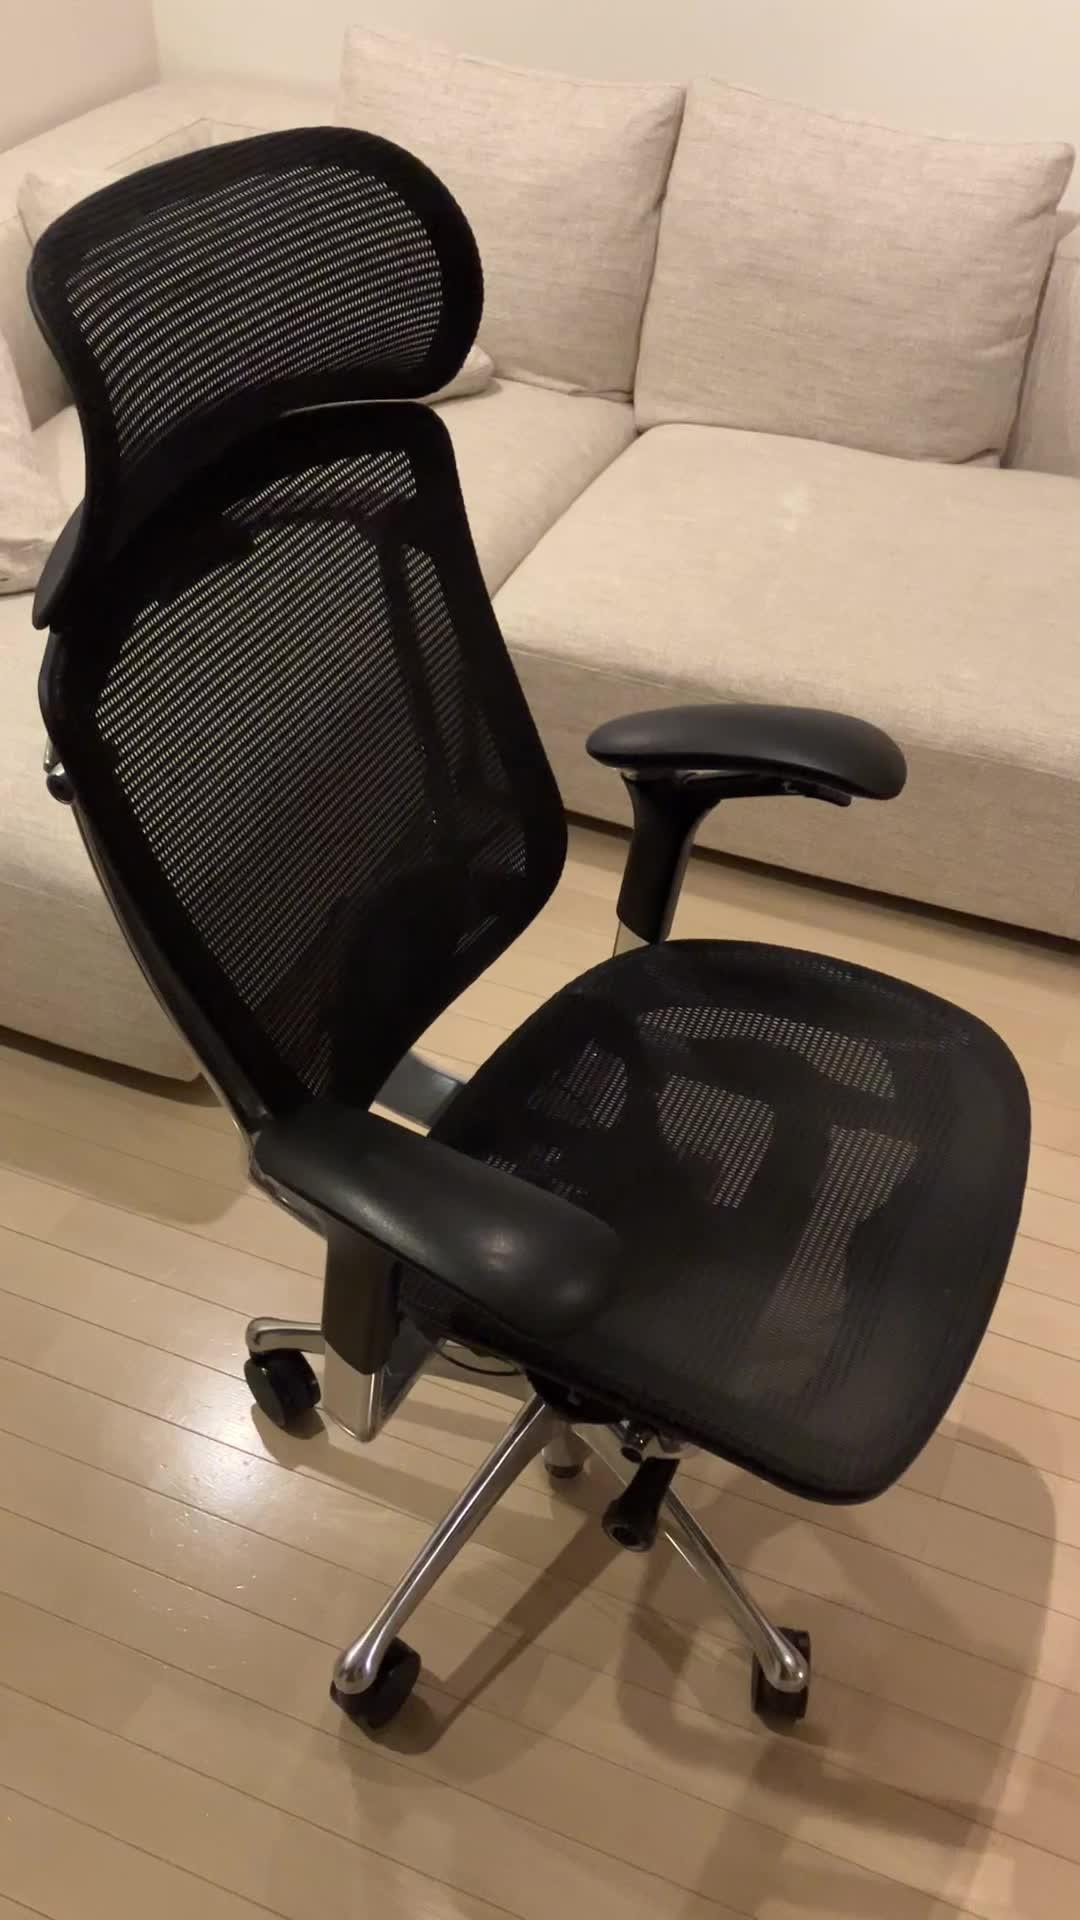okamura-contessa: (22, 117, 1036, 1747)
